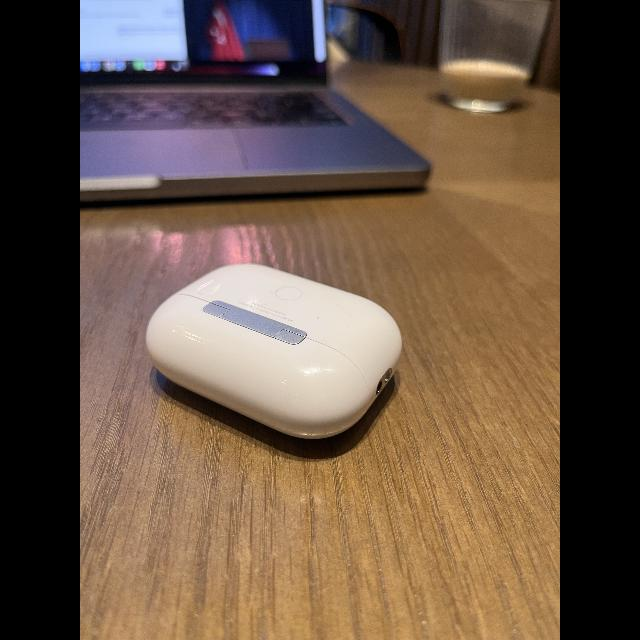AirPods Pro: (145, 257, 415, 458)
